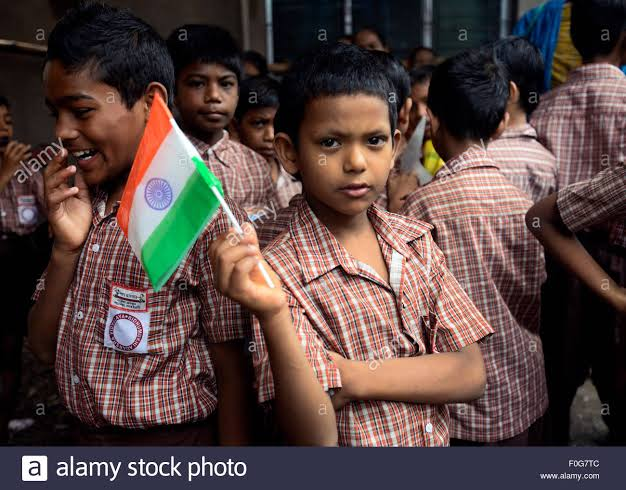student: (32, 20, 178, 177), (273, 58, 397, 208), (420, 47, 517, 161), (155, 12, 241, 128), (486, 31, 548, 117), (231, 68, 281, 161), (561, 3, 626, 71)
